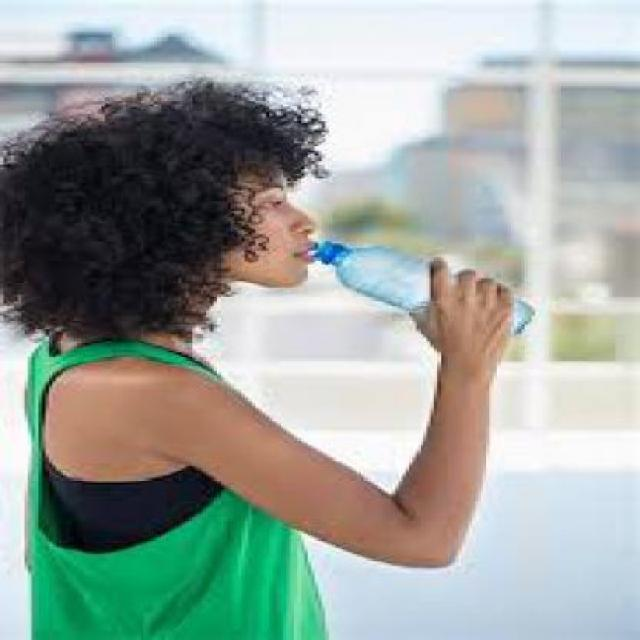Drinking: (286, 222, 563, 367)
